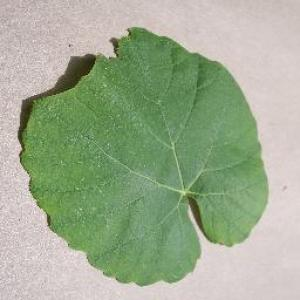Folha: (16, 25, 268, 287)
